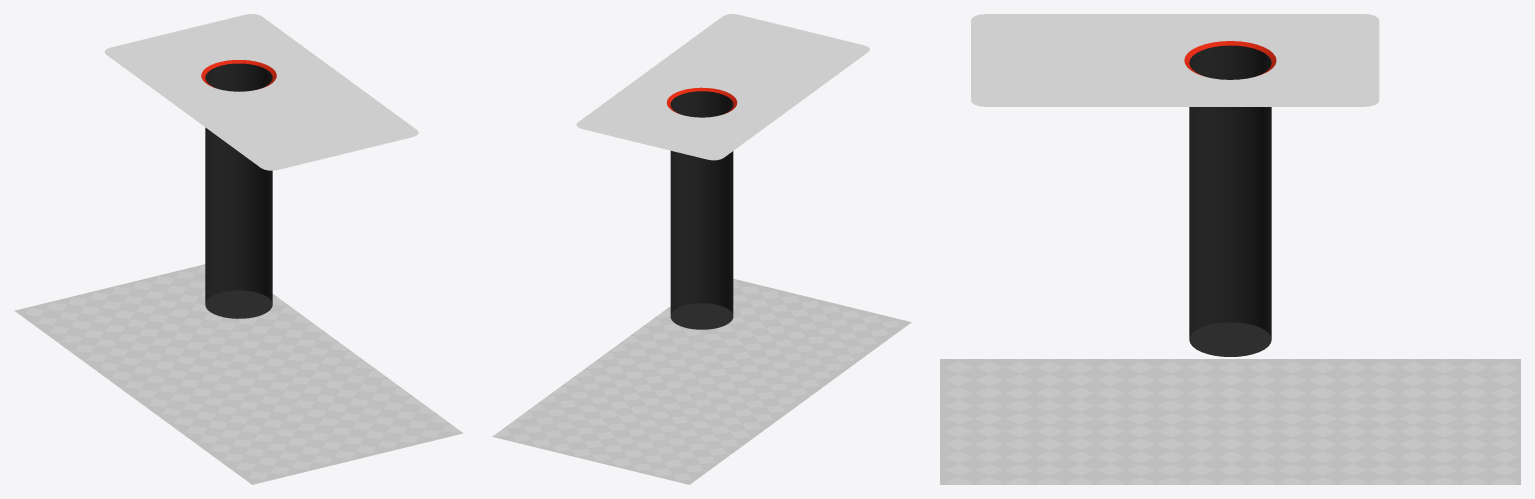
Rendered from hole platform.fbx.
3 renders of one model, left to right at view 1: azimuth 30°, elevation 25°; view 2: azimuth 150°, elevation 25°; view 3: azimuth 270°, elevation 25°, orthographic. The views are drawn at different scales.
Parts seen in each view (by area): view 1: Cube, Cube.002; view 2: Cube, Cube.002; view 3: Cube, Cube.002.
Boxes of the visible parts, <box> form: Cube: <box>14,264,463,484</box>; Cube.002: <box>104,14,418,318</box>; Cube: <box>492,278,911,484</box>; Cube.002: <box>576,14,869,329</box>; Cube: <box>940,359,1520,484</box>; Cube.002: <box>971,14,1379,356</box>.
Size of the model in its own units: 145 by 194 by 283.
Materials: 4 (1 with a texture image).
